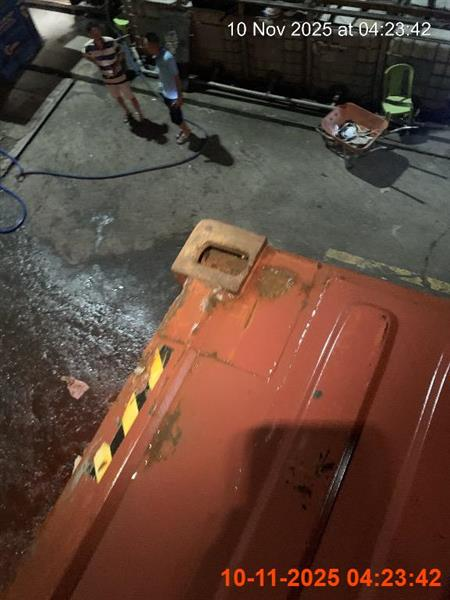hole: (1, 217, 449, 598), (83, 23, 145, 125), (139, 32, 192, 145), (380, 63, 417, 135)
